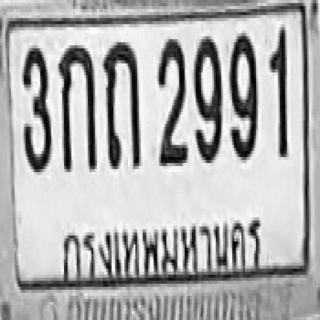A01: (57, 42, 95, 169)
A22: (102, 39, 141, 169)
N01: (269, 24, 287, 157)
N02: (156, 38, 188, 165)
N03: (22, 45, 51, 169)
N09: (192, 35, 221, 161), (228, 32, 256, 158)
P04: (59, 221, 269, 282)
